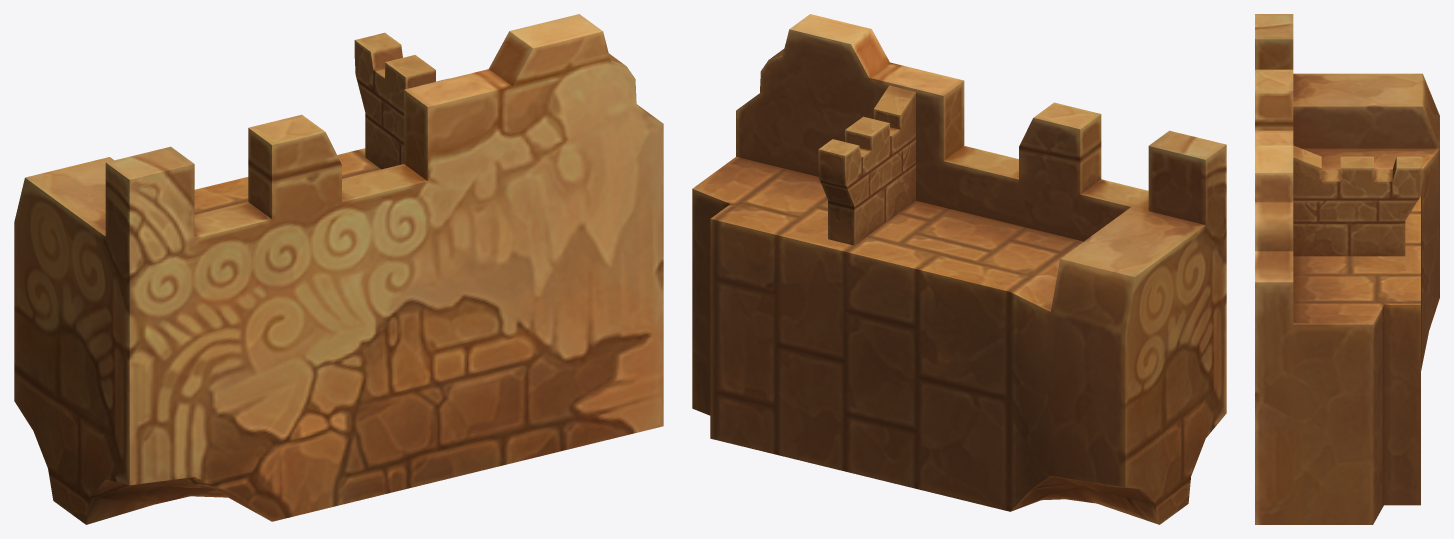
The model's file is Stage_ShaMo_QiangBi01.FBX.
The picture shows the model from 3 angles, left to right: view 1: azimuth 30°, elevation 25°; view 2: azimuth 150°, elevation 25°; view 3: azimuth 270°, elevation 25°; orthographic projection. The views are drawn at different scales.
Visible parts, largest first — view 1: Stage_ShaMo_QiangBi01; view 2: Stage_ShaMo_QiangBi01; view 3: Stage_ShaMo_QiangBi01.
Boxes of the visible parts, left/top/right/bottom form: Stage_ShaMo_QiangBi01: left=14, top=14, right=663, bottom=524; Stage_ShaMo_QiangBi01: left=692, top=14, right=1226, bottom=524; Stage_ShaMo_QiangBi01: left=1255, top=14, right=1439, bottom=524.
Size of the model in its own units: 510 by 374 by 190.
